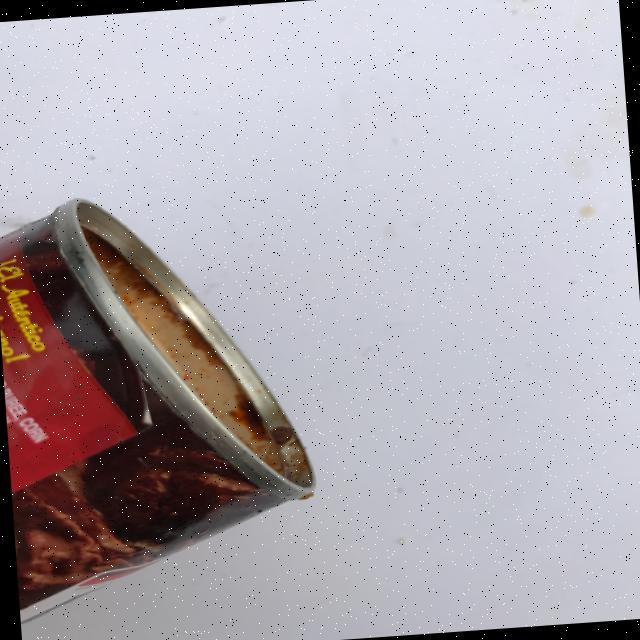metal: (0, 181, 325, 621)
